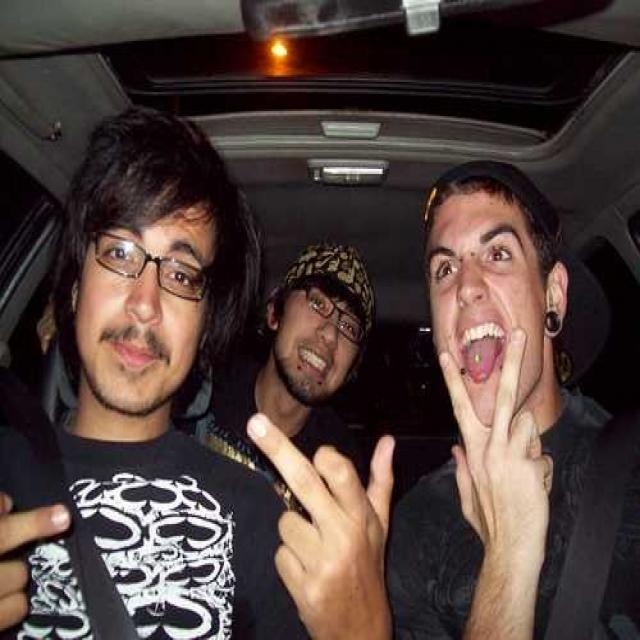seatbelt: (14, 365, 147, 640), (542, 406, 640, 626)
